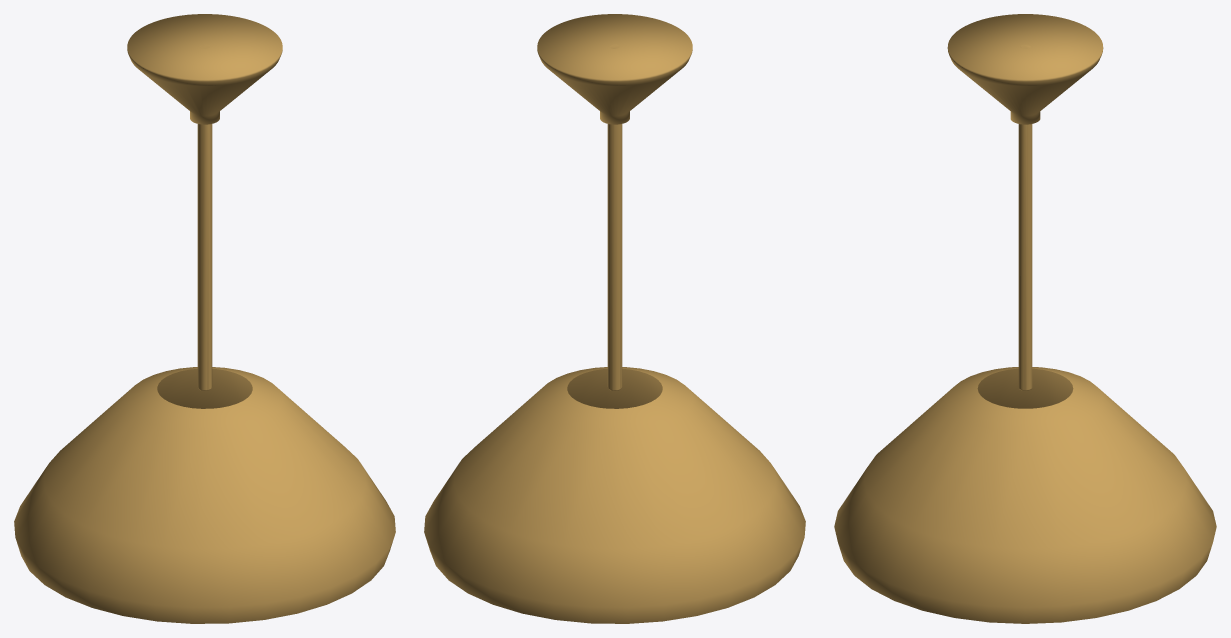
File: speakeasy-pendant.glb
3 views of the same model, side by side, from view 1: azimuth 30°, elevation 25°; view 2: azimuth 150°, elevation 25°; view 3: azimuth 270°, elevation 25° (orthographic).
Visible parts, largest first — view 1: speakeasy-pendant - Room Review metal runtime PBR; view 2: speakeasy-pendant - Room Review metal runtime PBR; view 3: speakeasy-pendant - Room Review metal runtime PBR.
Part boxes in pixels (bbox=[...]): speakeasy-pendant - Room Review metal runtime PBR: bbox=[14, 14, 395, 623]; speakeasy-pendant - Room Review metal runtime PBR: bbox=[424, 14, 805, 623]; speakeasy-pendant - Room Review metal runtime PBR: bbox=[834, 14, 1216, 623].
Bounding box in the file's own units: 0.64 × 0.921 × 0.64.
